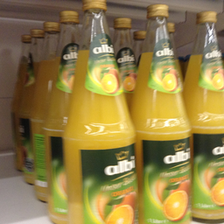juice: (66, 1, 137, 224), (132, 4, 191, 224), (182, 10, 223, 224)
